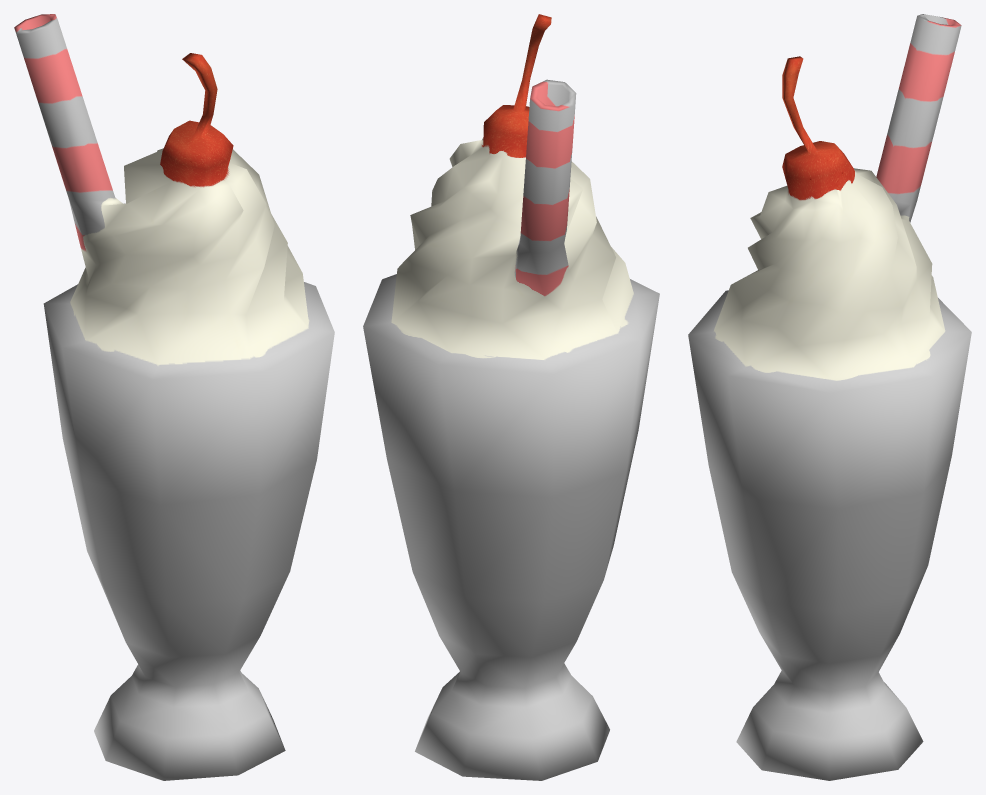
Rendered from Milkshake.fbx.
The picture shows the model from 3 angles, left to right: view 1: azimuth 30°, elevation 25°; view 2: azimuth 150°, elevation 25°; view 3: azimuth 270°, elevation 25°; orthographic projection. The views are drawn at different scales.
Visible parts, largest first — view 1: MilkshakeShell; view 2: MilkshakeShell; view 3: MilkshakeShell.
Part boxes in pixels (x1=…): MilkshakeShell: x1=14, y1=14, x2=334, y2=780; MilkshakeShell: x1=363, y1=14, x2=659, y2=780; MilkshakeShell: x1=688, y1=14, x2=971, y2=780.
Size of the model in its own units: 1.12 by 2.96 by 1.12.
Materials: 1 (1 with a texture image).
